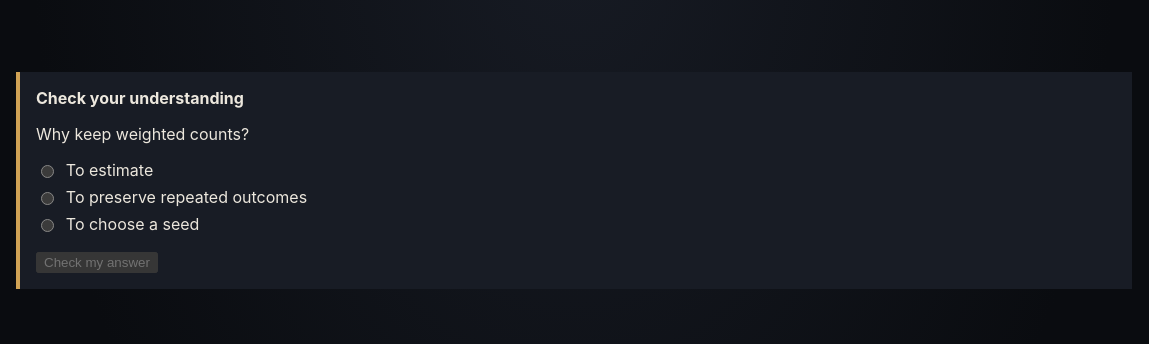
ComprehensionCheck › explains an incorrect choice without revealing it before submission
Click the radio button labelled "To estimate": (48, 172) [41, 163, 54, 180]
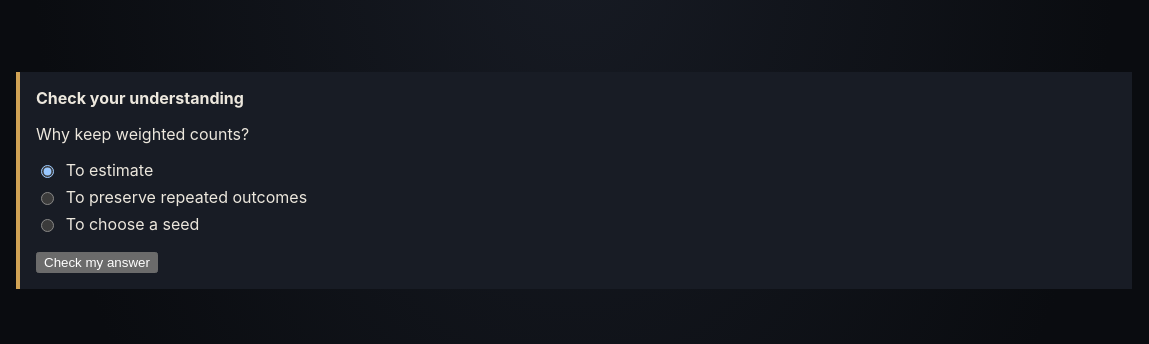
Click the button "Check my answer": (97, 262) [36, 252, 158, 273]
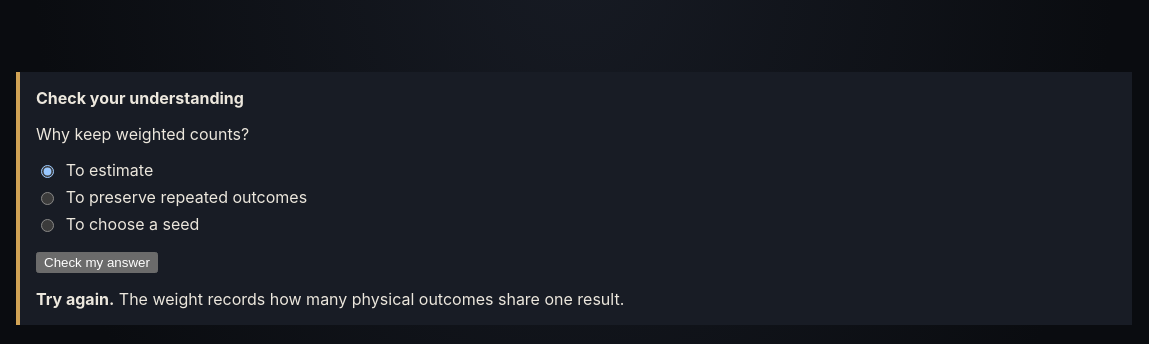
Expected: the element with class "check__result" shows "Try again.", [36, 289, 114, 309]
Expected: the element with class "check__result" shows "The weight records how many physical outcomes share one result.", [114, 289, 624, 309]
